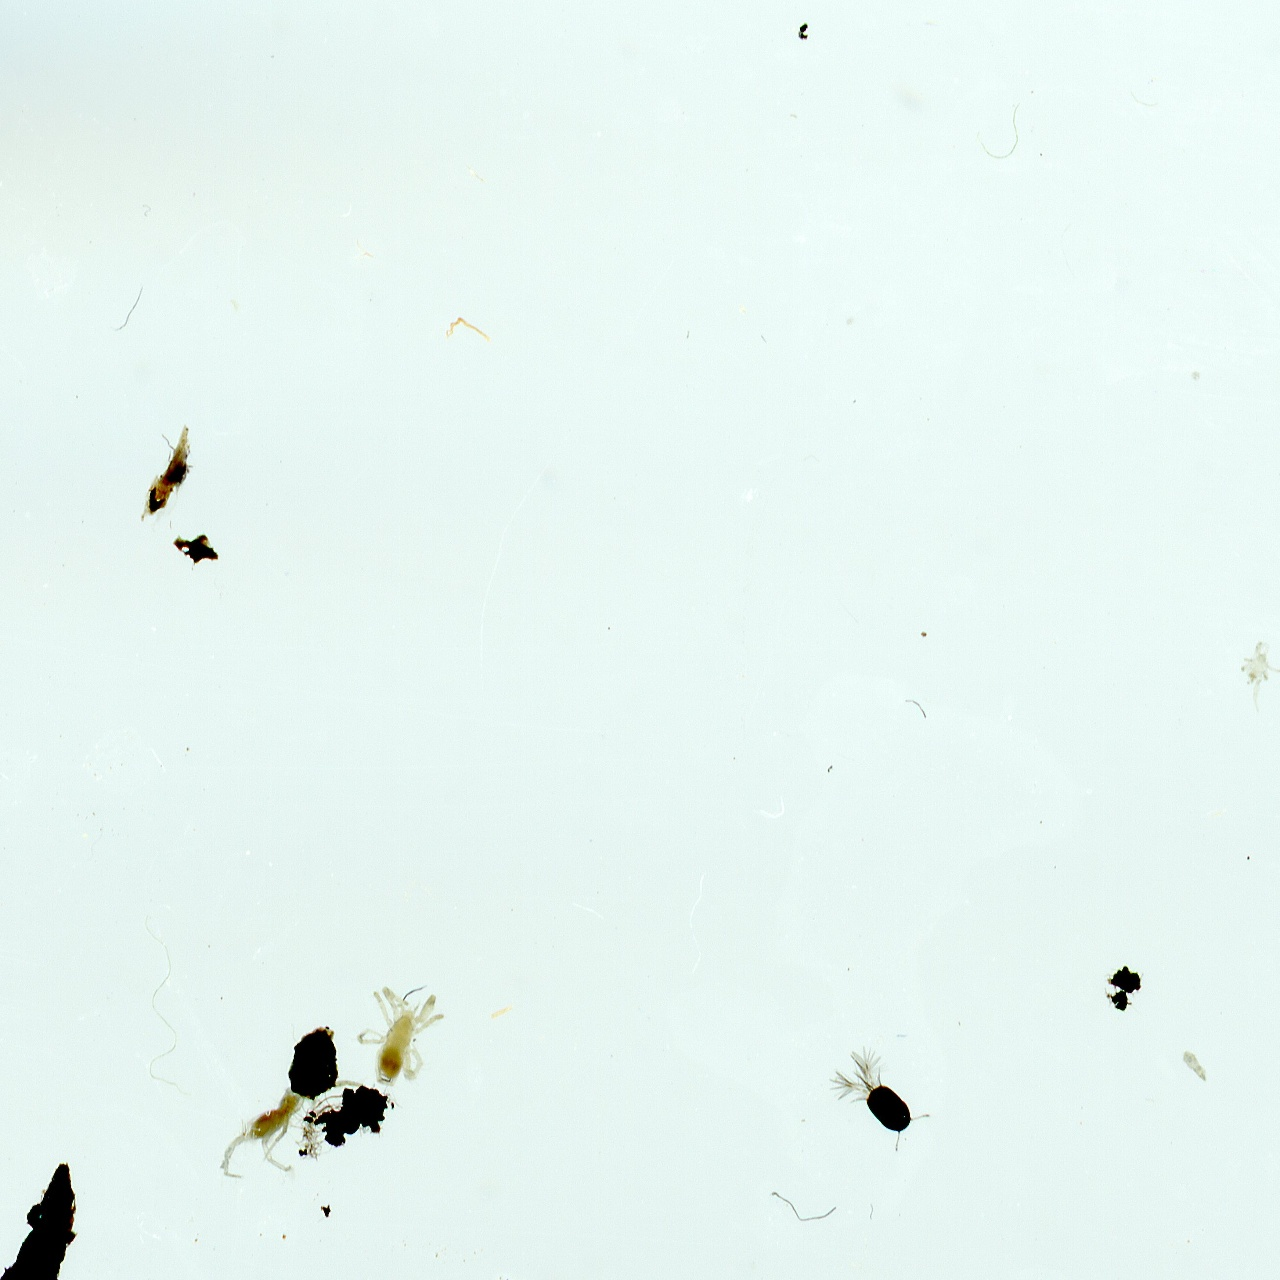arthropod: (206, 1042, 370, 1209), (818, 1034, 942, 1158), (355, 982, 449, 1089), (1234, 637, 1280, 719)
